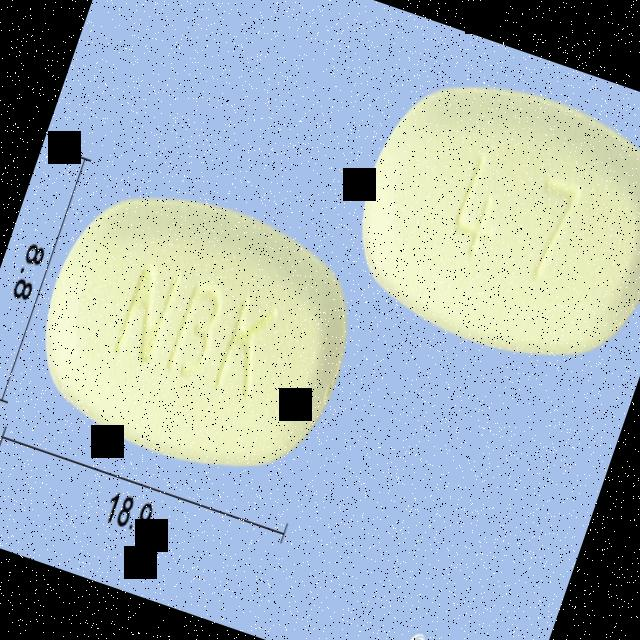Lathrocin-500mg: (11, 159, 376, 502), (333, 51, 640, 383)
